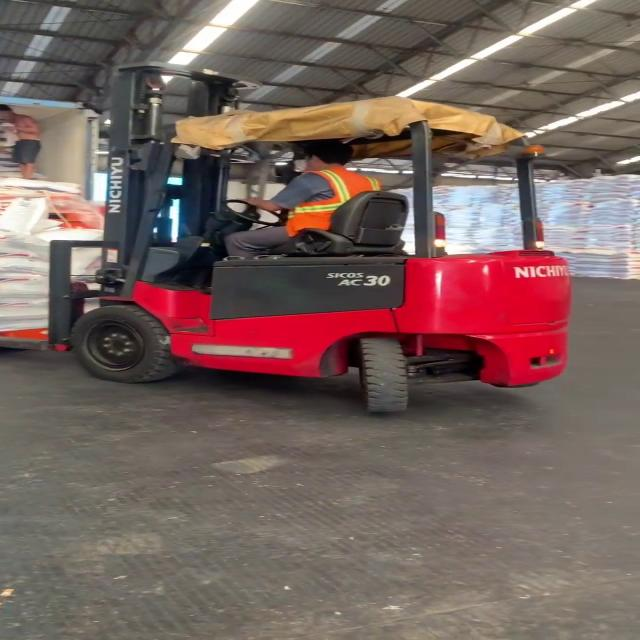ForkLift: (49, 62, 574, 410)
